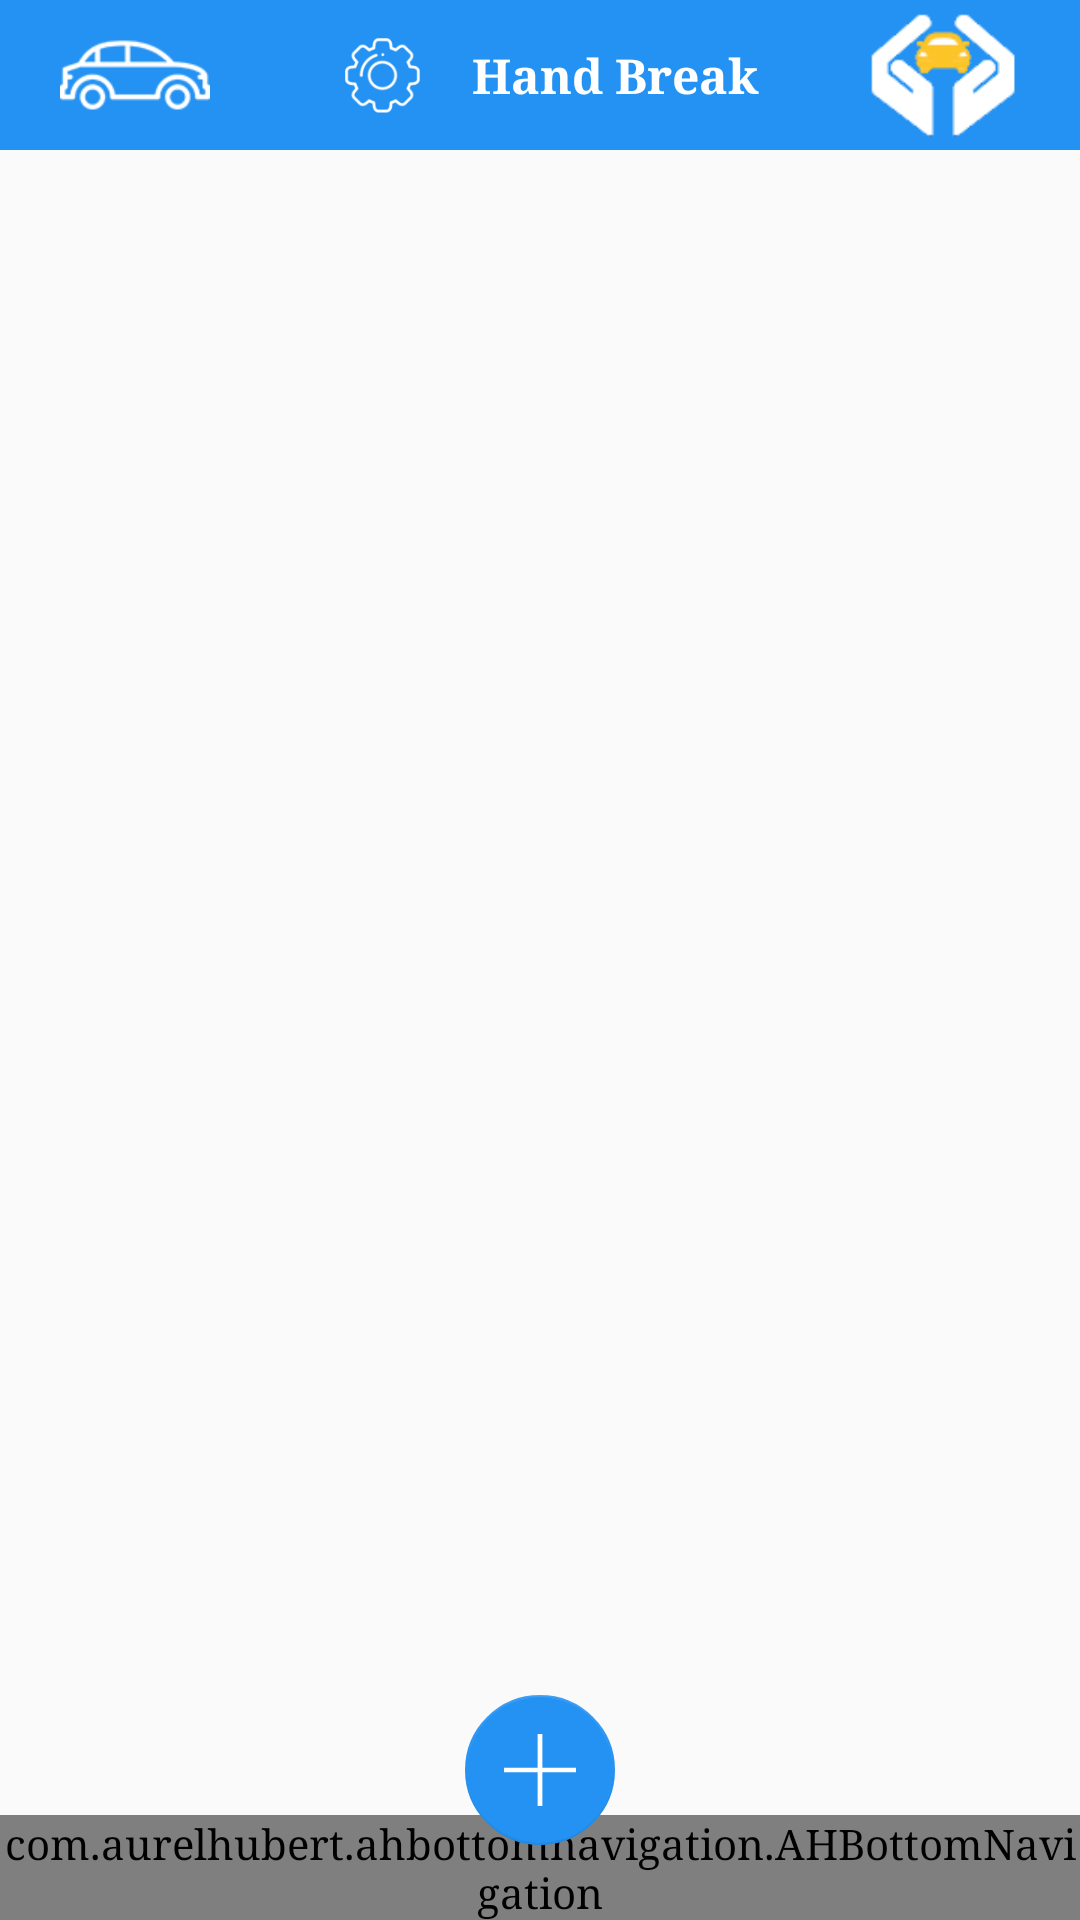

Where icons sit on this 1080x1920 app screen, as box=[x1, y1, x2, y2]:
car: box=[60, 40, 210, 110]
insurance car: box=[871, 14, 1015, 137]
plus: box=[465, 1695, 615, 1845]
